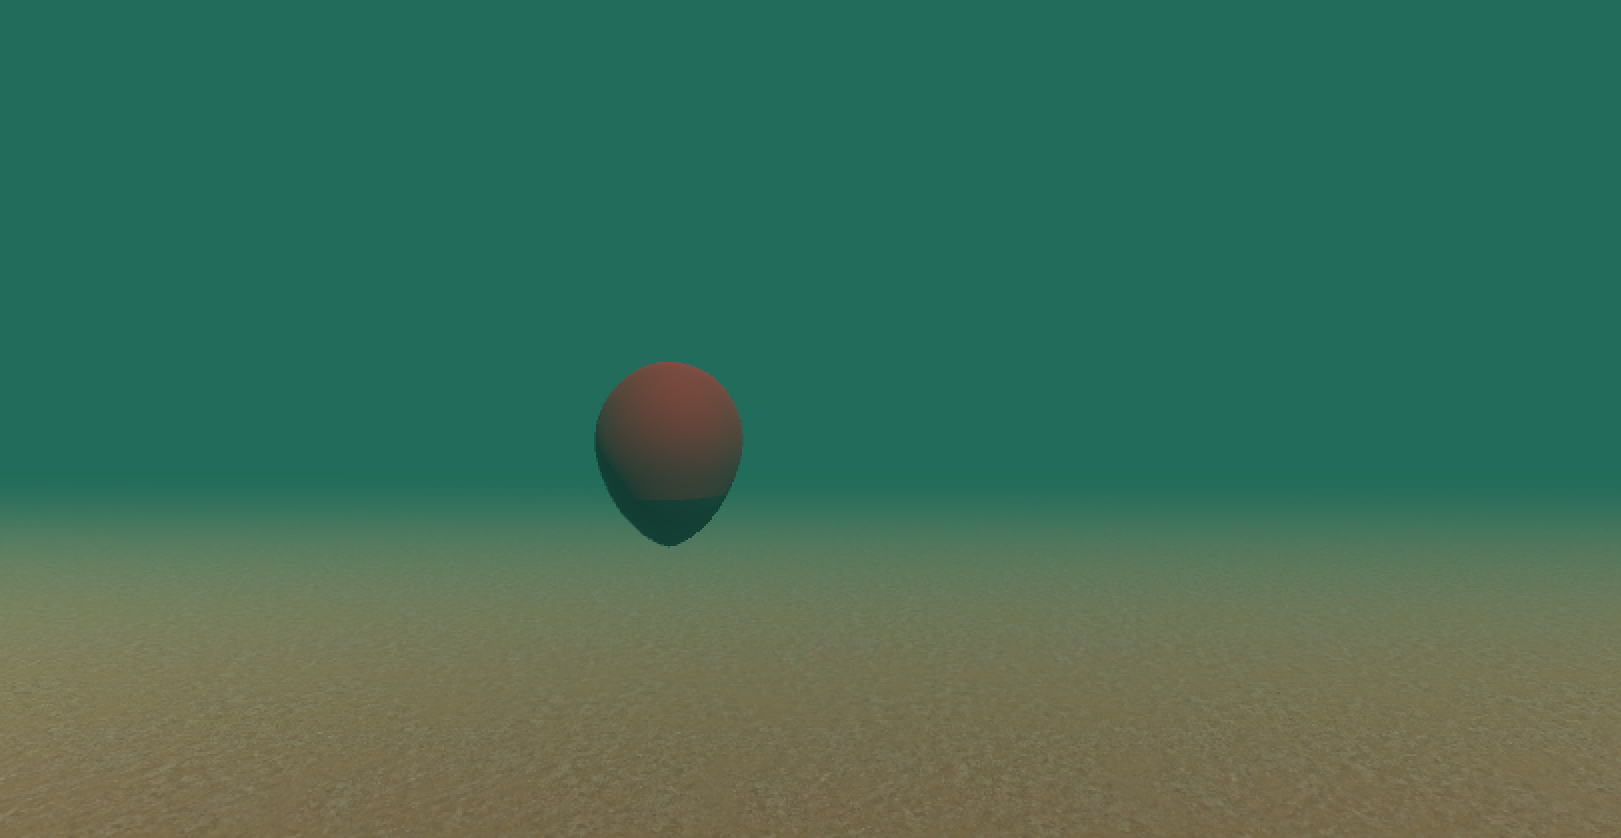red buoy: (593, 358, 745, 550)
